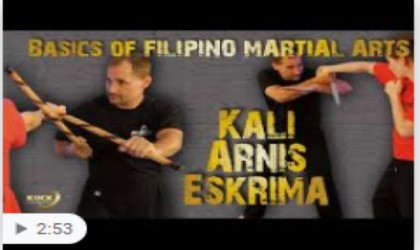baston_e: (69, 110, 173, 173), (14, 69, 74, 148)
baston_v: (164, 154, 187, 175), (2, 57, 17, 78)
